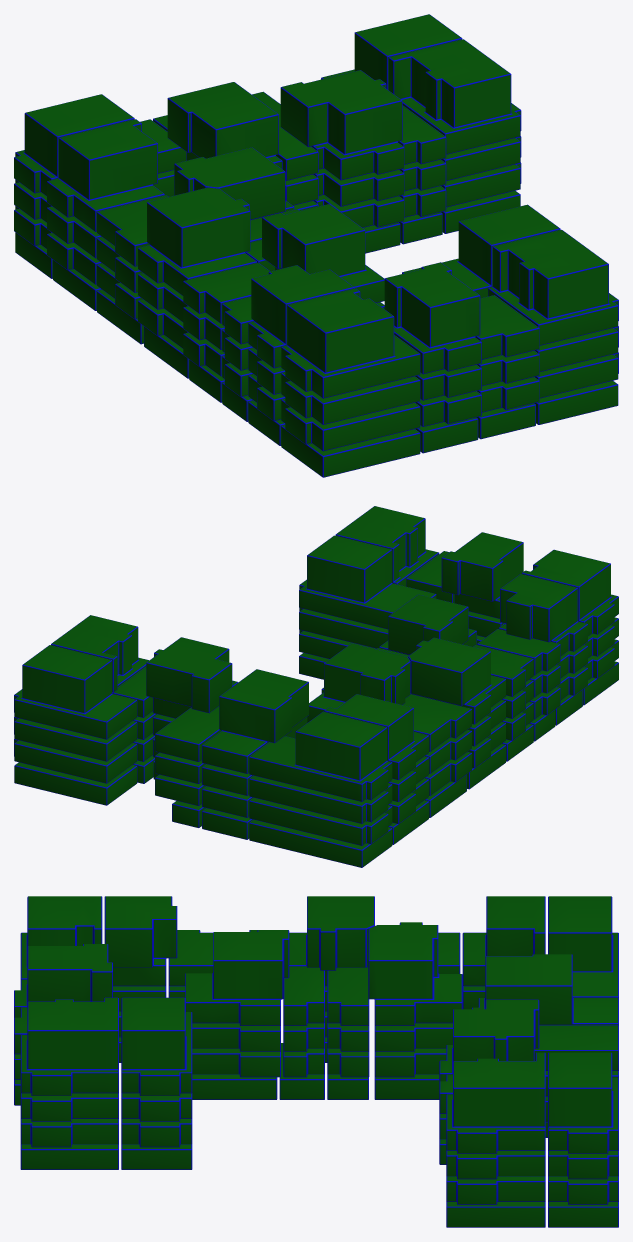
File: Boxy.fbx
3 renders of one model, top to bottom at view 1: azimuth 30°, elevation 25°; view 2: azimuth 150°, elevation 25°; view 3: azimuth 270°, elevation 25°, orthographic. The views are drawn at different scales.
Visible parts, largest first — view 1: 41A, 38A, 17C, 19C, 45A, 18B, 40A, 20B, 48A, 19B, 16B, 42A (+50 smaller); view 2: 19B, 16C, 37A, 20B, 19C, 45A, 42A, 40A, 16B, 41A, 38A, 48A (+44 smaller); view 3: 38A, 17C, 48A, 16B, 16C, 37A, 20B, 42A, 19B, 45A, 19C, 40A (+34 smaller).
Boxes of the visible parts, x1=… form: 41A: x1=281, y1=288, x2=420, y2=398; 38A: x1=488, y1=229, x2=618, y2=345; 17C: x1=388, y1=39, x2=521, y2=154; 19C: x1=280, y1=70, x2=404, y2=180; 45A: x1=138, y1=187, x2=257, y2=295; 18B: x1=47, y1=119, x2=164, y2=231; 40A: x1=384, y1=262, x2=481, y2=374; 20B: x1=153, y1=82, x2=282, y2=168; 48A: x1=262, y1=204, x2=384, y2=302; 19B: x1=14, y1=94, x2=186, y2=196; 16B: x1=174, y1=147, x2=294, y2=220; 42A: x1=248, y1=265, x2=354, y2=368; 19B: x1=249, y1=711, x2=392, y2=801; 16C: x1=14, y1=645, x2=137, y2=739; 37A: x1=299, y1=535, x2=436, y2=629; 20B: x1=202, y1=669, x2=308, y2=773; 19C: x1=146, y1=637, x2=238, y2=718; 45A: x1=408, y1=637, x2=505, y2=724; 42A: x1=498, y1=574, x2=587, y2=656; 40A: x1=441, y1=532, x2=523, y2=618; 16B: x1=307, y1=643, x2=410, y2=722; 41A: x1=522, y1=549, x2=618, y2=636; 38A: x1=335, y1=506, x2=439, y2=586; 48A: x1=379, y1=594, x2=476, y2=655; 38A: x1=20, y1=997, x2=118, y2=1095; 17C: x1=446, y1=1052, x2=545, y2=1153; 48A: x1=185, y1=930, x2=289, y2=1025; 16B: x1=368, y1=922, x2=462, y2=1025; 16C: x1=548, y1=1052, x2=618, y2=1153; 37A: x1=121, y1=997, x2=192, y2=1095; 20B: x1=472, y1=954, x2=618, y2=1025; 42A: x1=104, y1=896, x2=177, y2=986; 19B: x1=548, y1=896, x2=618, y2=997; 45A: x1=289, y1=896, x2=374, y2=986; 19C: x1=439, y1=999, x2=539, y2=1081; 40A: x1=14, y1=944, x2=112, y2=1017.
Bounding box in the file's own units: 4993 × 6277 × 1568.
